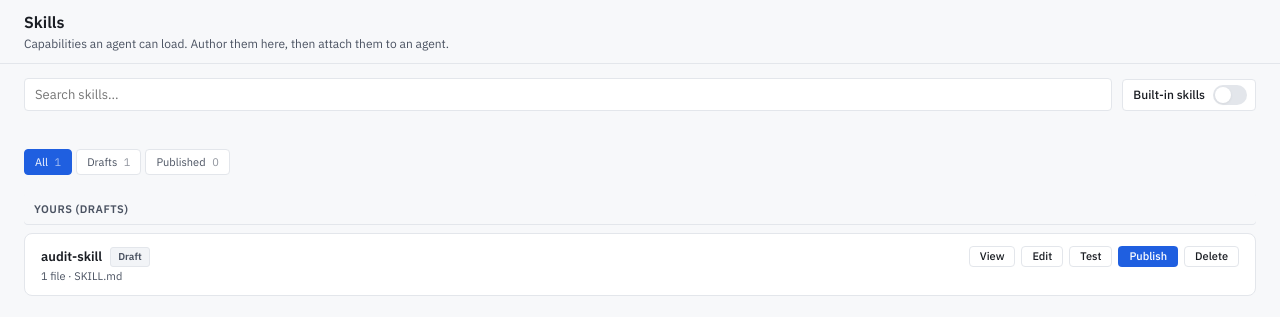
Test case: SkillsCenter › scopes the inventory to the picked All / Drafts / Published state
expect the button with aria-label "Edit audit-skill" is shown: met, box [1021,246,1063,267]
Click the button "Published 0" at coordinates (188, 162), box [146,149,230,175]
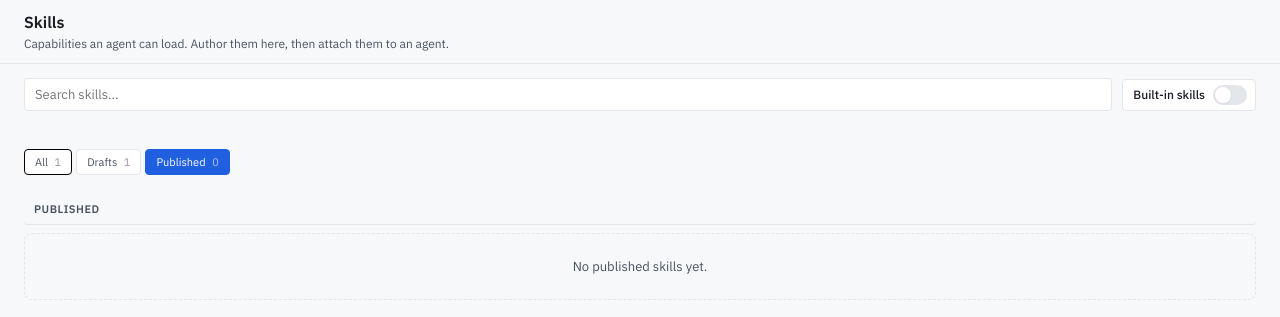
expect the text "Edit audit-skill" is gone: met
expect the text "No published skills yet." is shown: met, box [24,233,1256,300]
Drafts: back to the draft, and no Published section at all.
Click the button "Drafts 1" at coordinates (109, 162), box [76,149,142,175]
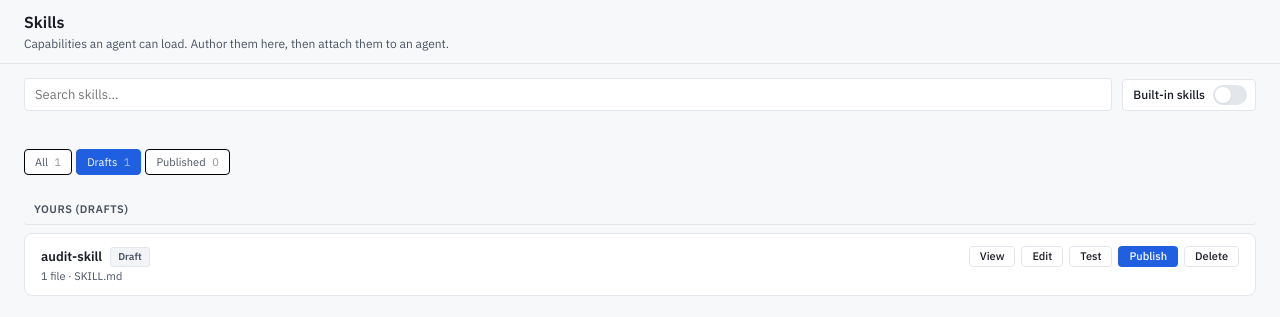
expect the button with aria-label "Edit audit-skill" is shown: met, box [1021,246,1063,267]
expect the text "No published skills yet." is gone: met
